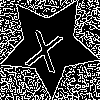X: (24, 21, 67, 73)
